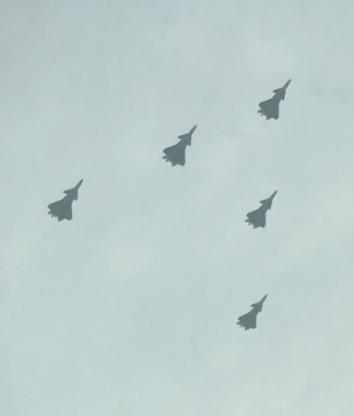F4: (46, 178, 83, 222), (161, 124, 197, 168), (256, 78, 291, 120), (243, 188, 278, 230), (234, 293, 267, 331)
